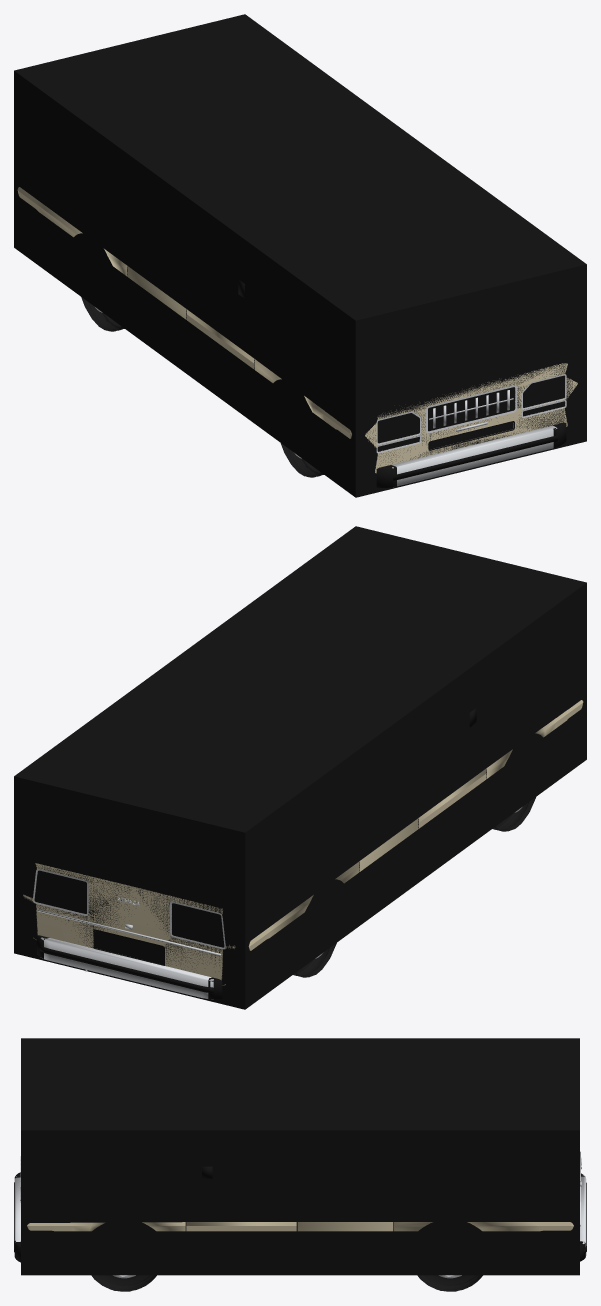
File: atmaca_stock_lod1.glb
3 views of the same model, one above another, from view 1: azimuth 30°, elevation 25°; view 2: azimuth 150°, elevation 25°; view 3: azimuth 270°, elevation 25° (orthographic). The views are drawn at different scales.
Visible parts, largest first — view 1: col_body, body, trim; view 2: col_body, body, trim; view 3: col_body, body, trim, wheel_FL, wheel_RL.
Part boxes in pixels (box(x1,y1,x2,y2)): col_body: box(14, 14, 586, 497); body: box(17, 187, 577, 473); trim: box(238, 279, 566, 487); col_body: box(14, 526, 586, 1009); body: box(23, 700, 583, 985); trim: box(33, 708, 476, 999); col_body: box(21, 1038, 579, 1275); body: box(27, 1222, 573, 1231); trim: box(14, 1151, 586, 1262); wheel_FL: box(91, 1275, 156, 1291); wheel_RL: box(417, 1275, 482, 1291).
Size of the model in its own units: 1.65 by 1.37 by 4.31.
